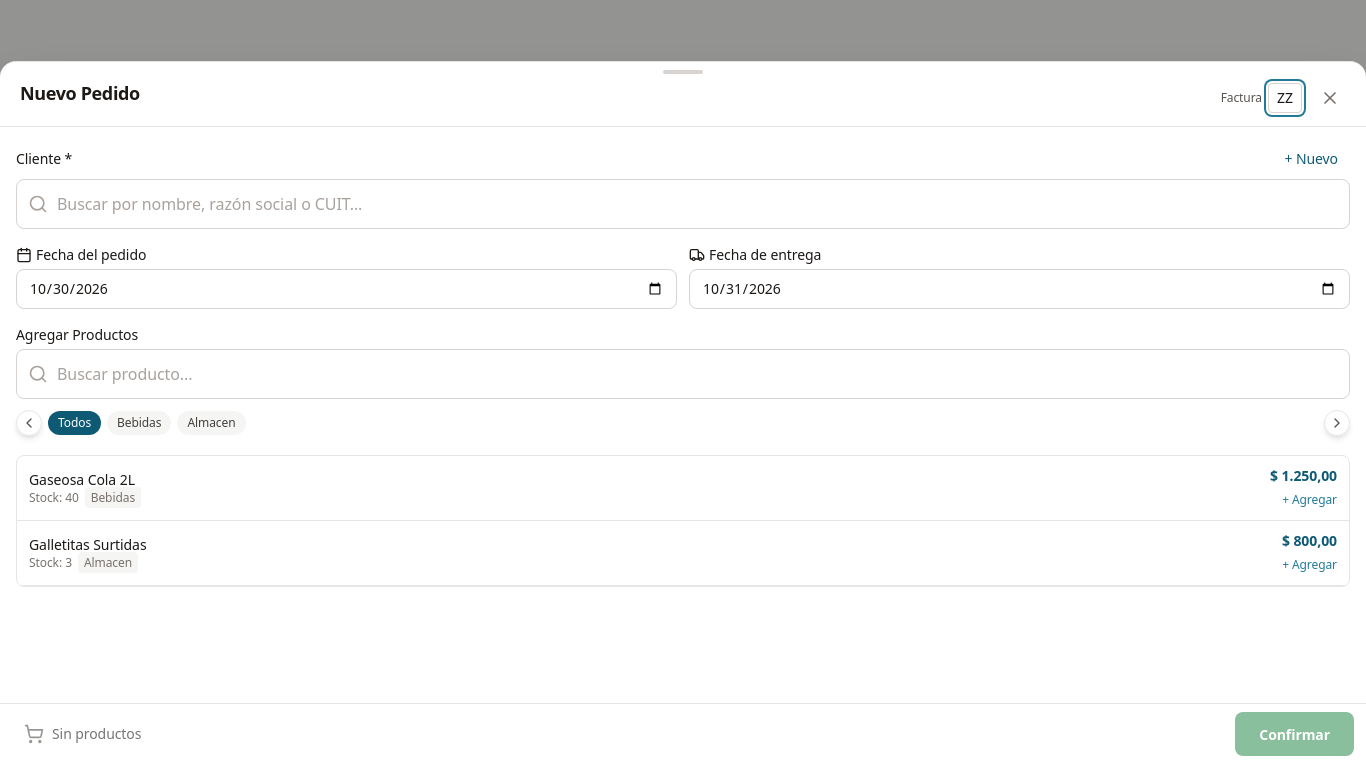
ModalPedido en celular — confirmar › sin cliente el Confirmar está apagado (#732), y elegirlo lo habilita
Type "Gaseosa" into the field with placeholder "Buscar producto...".
click(683, 374); type("Gaseosa")  # box [16, 350, 1350, 400]
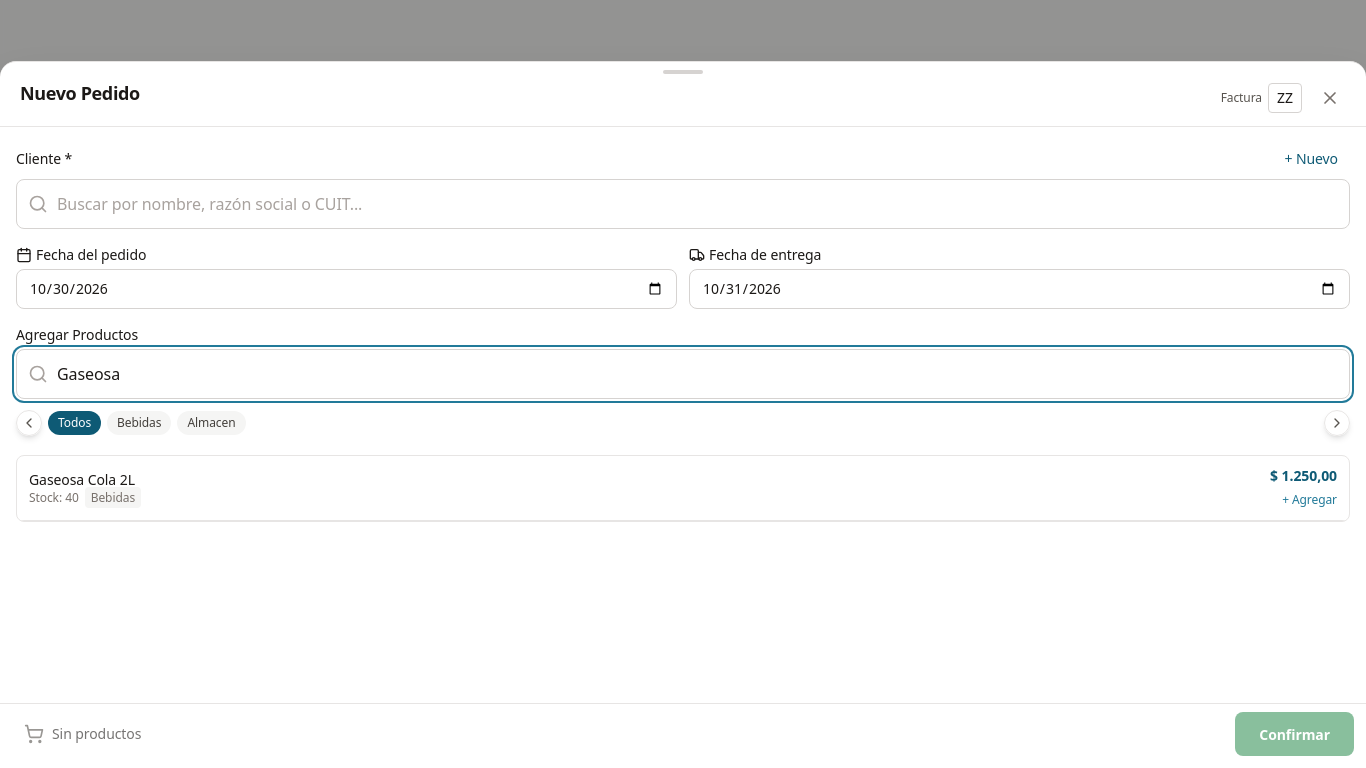
Click the text "+ Agregar".
click(1310, 500)  # box [1282, 492, 1337, 508]
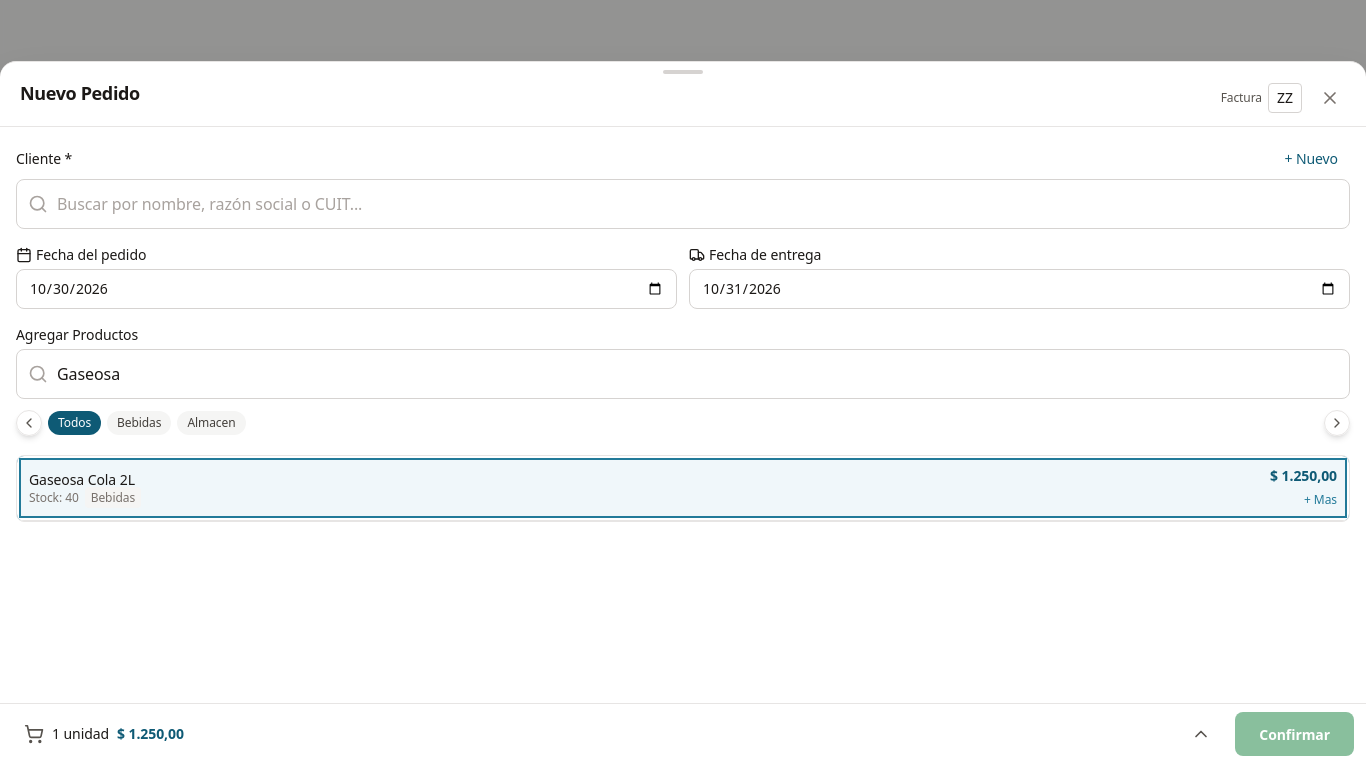
Click the button "Confirmar".
click(1295, 734)  # box [1235, 712, 1354, 756]
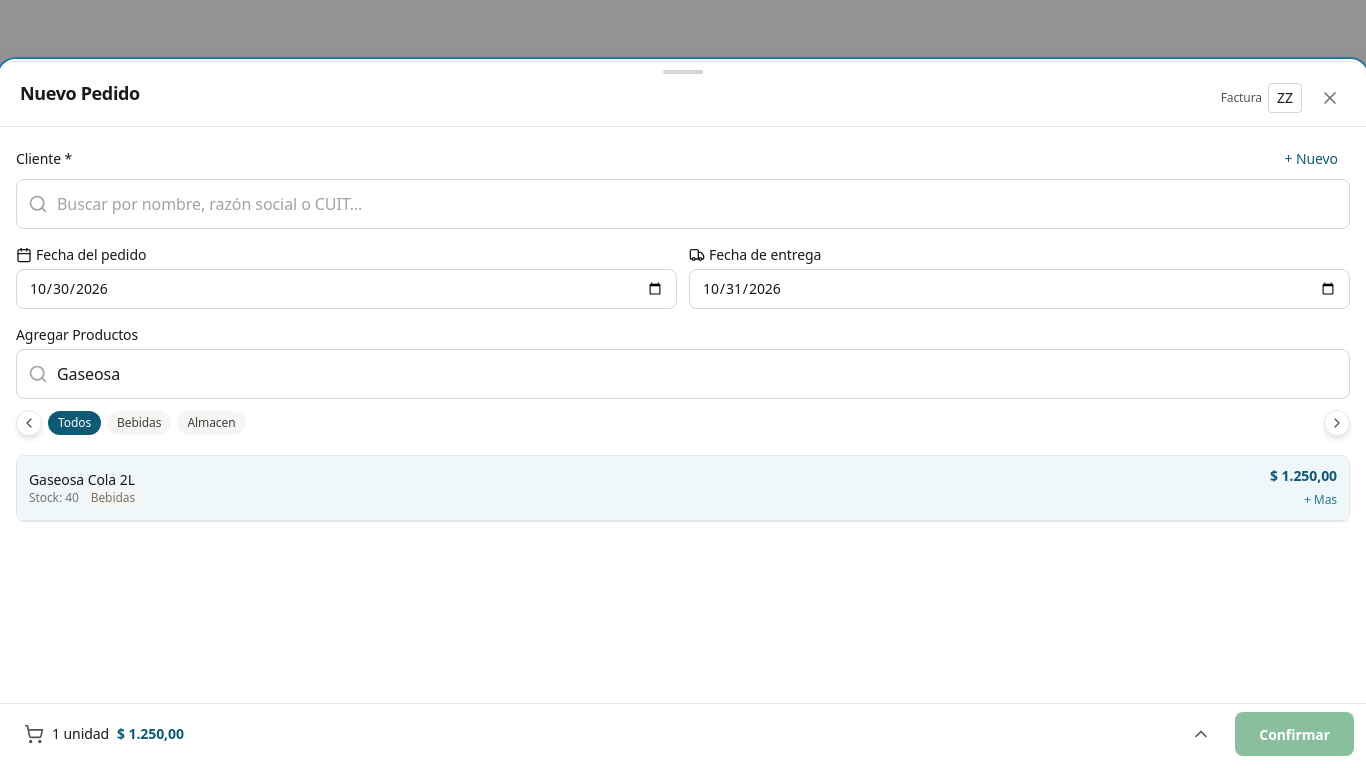
Type "Kiosco El Sol" into the field with placeholder "Buscar por nombre, razón social o CUIT...".
click(683, 204); type("Kiosco El Sol")  # box [16, 180, 1350, 230]
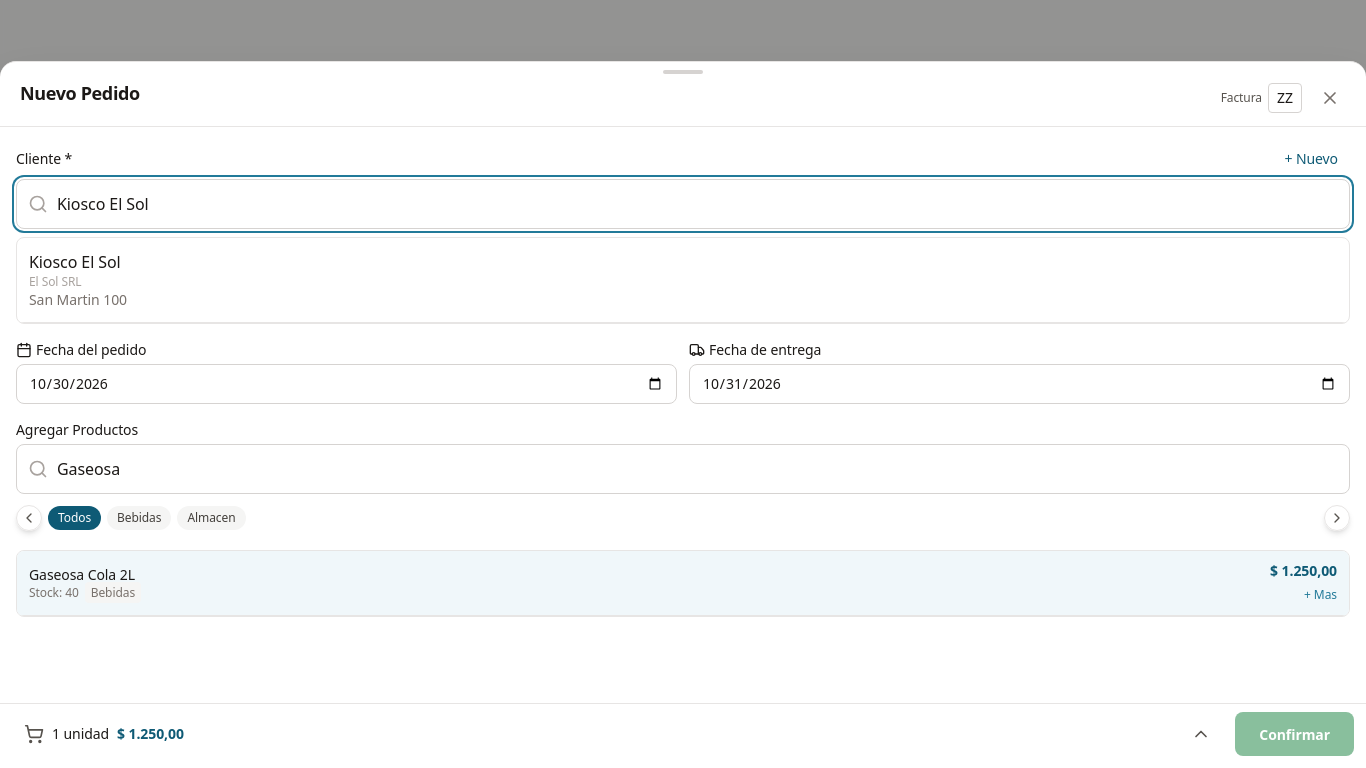
Click the option "Kiosco El Sol El Sol SRL San Martin 100".
click(75, 262)  # box [17, 238, 1349, 324]
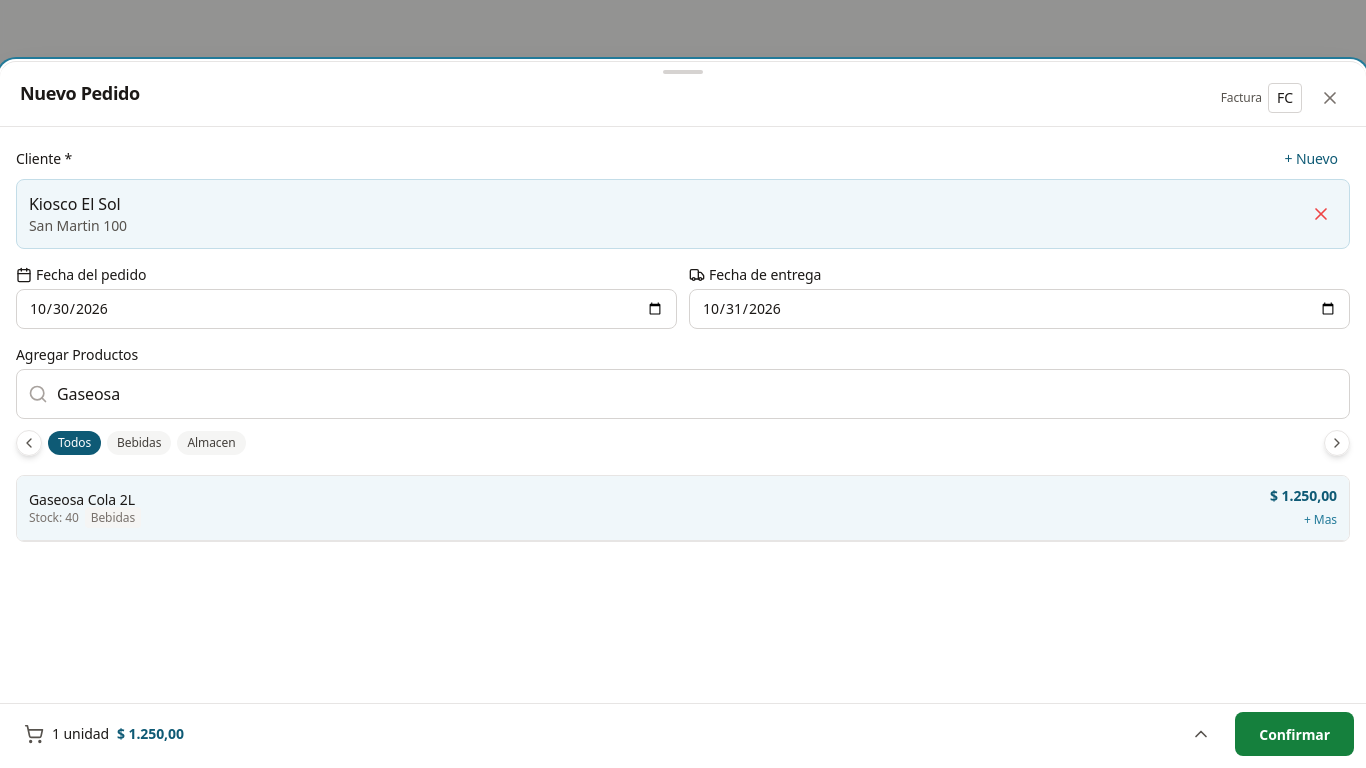
Expected: the button "Confirmar" is enabled, [1235, 712, 1354, 756]
